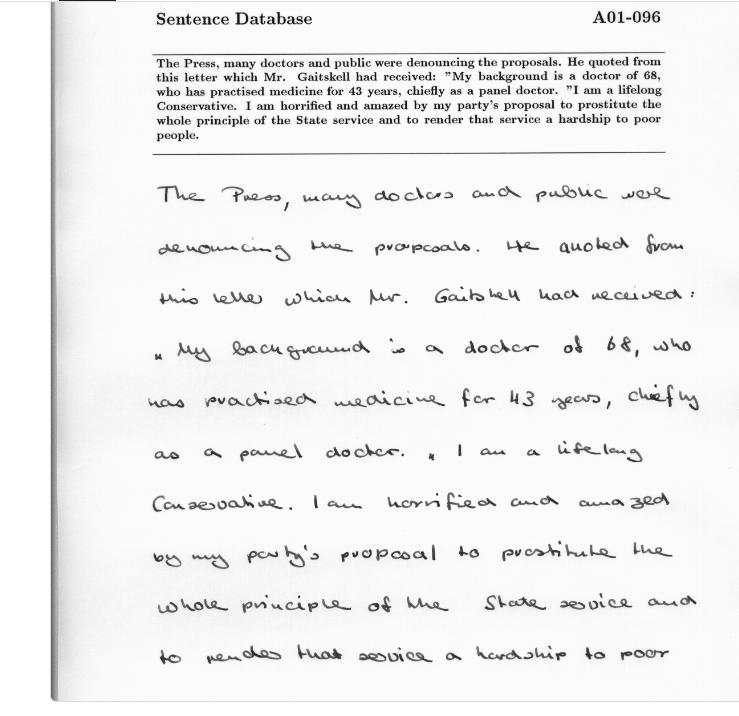text: (142, 380, 706, 416), (149, 330, 693, 367), (147, 536, 676, 572), (152, 229, 690, 264), (152, 591, 700, 622), (151, 182, 671, 214), (149, 435, 647, 468), (146, 489, 672, 516), (151, 284, 700, 309), (154, 642, 674, 667), (151, 66, 660, 87), (152, 94, 666, 114), (152, 83, 664, 102), (152, 54, 664, 72), (152, 111, 664, 127), (151, 8, 317, 33), (587, 6, 664, 27), (149, 128, 202, 144)
